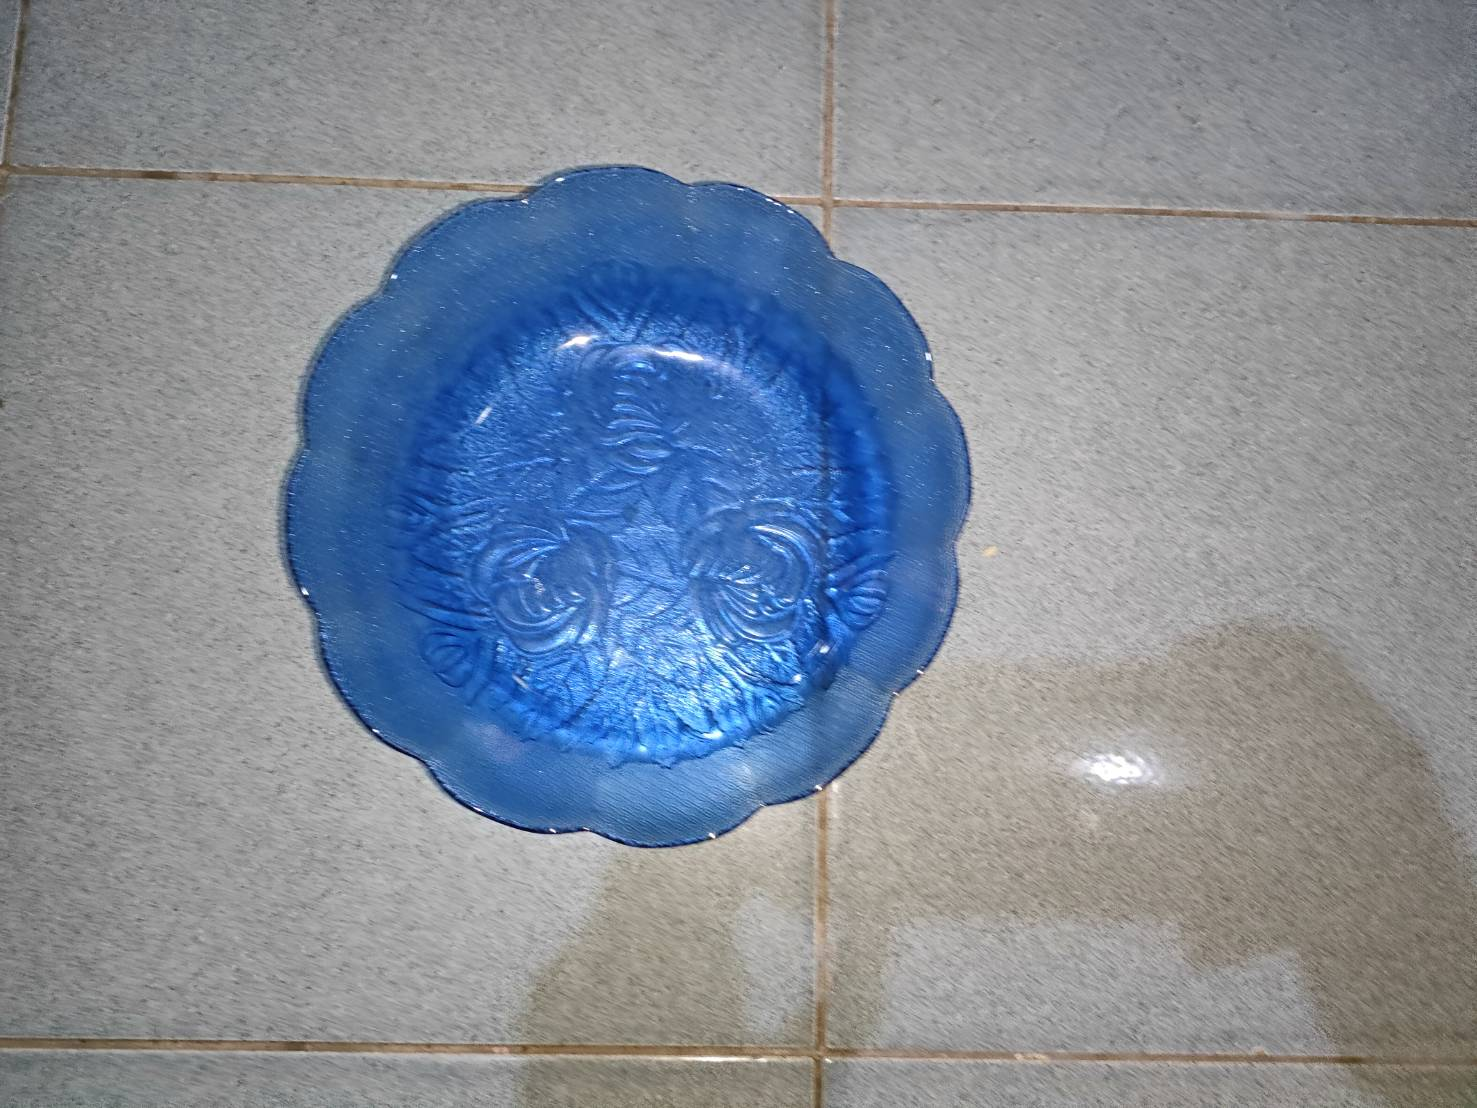piring: (281, 162, 970, 847)
